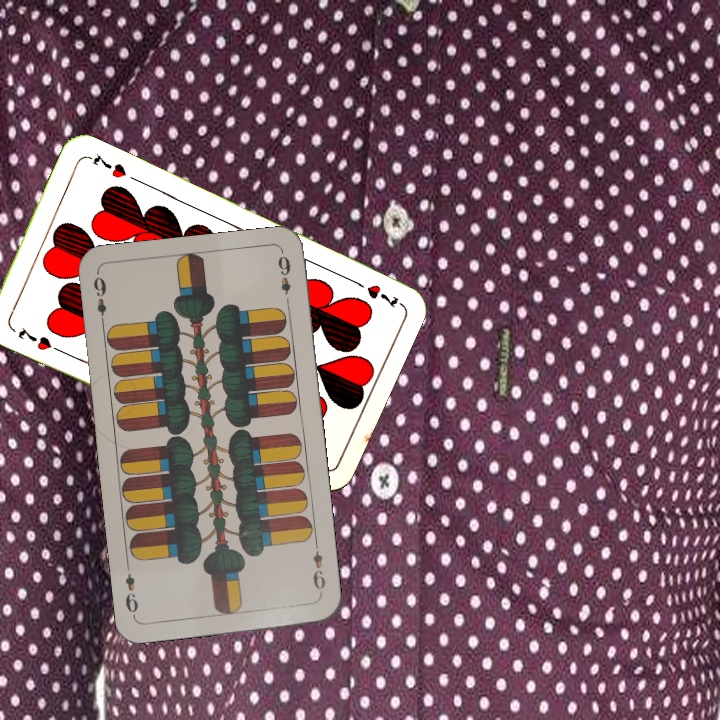E9: (89, 272, 109, 329), (309, 539, 328, 598)
H7: (348, 275, 403, 311), (14, 324, 55, 353)
